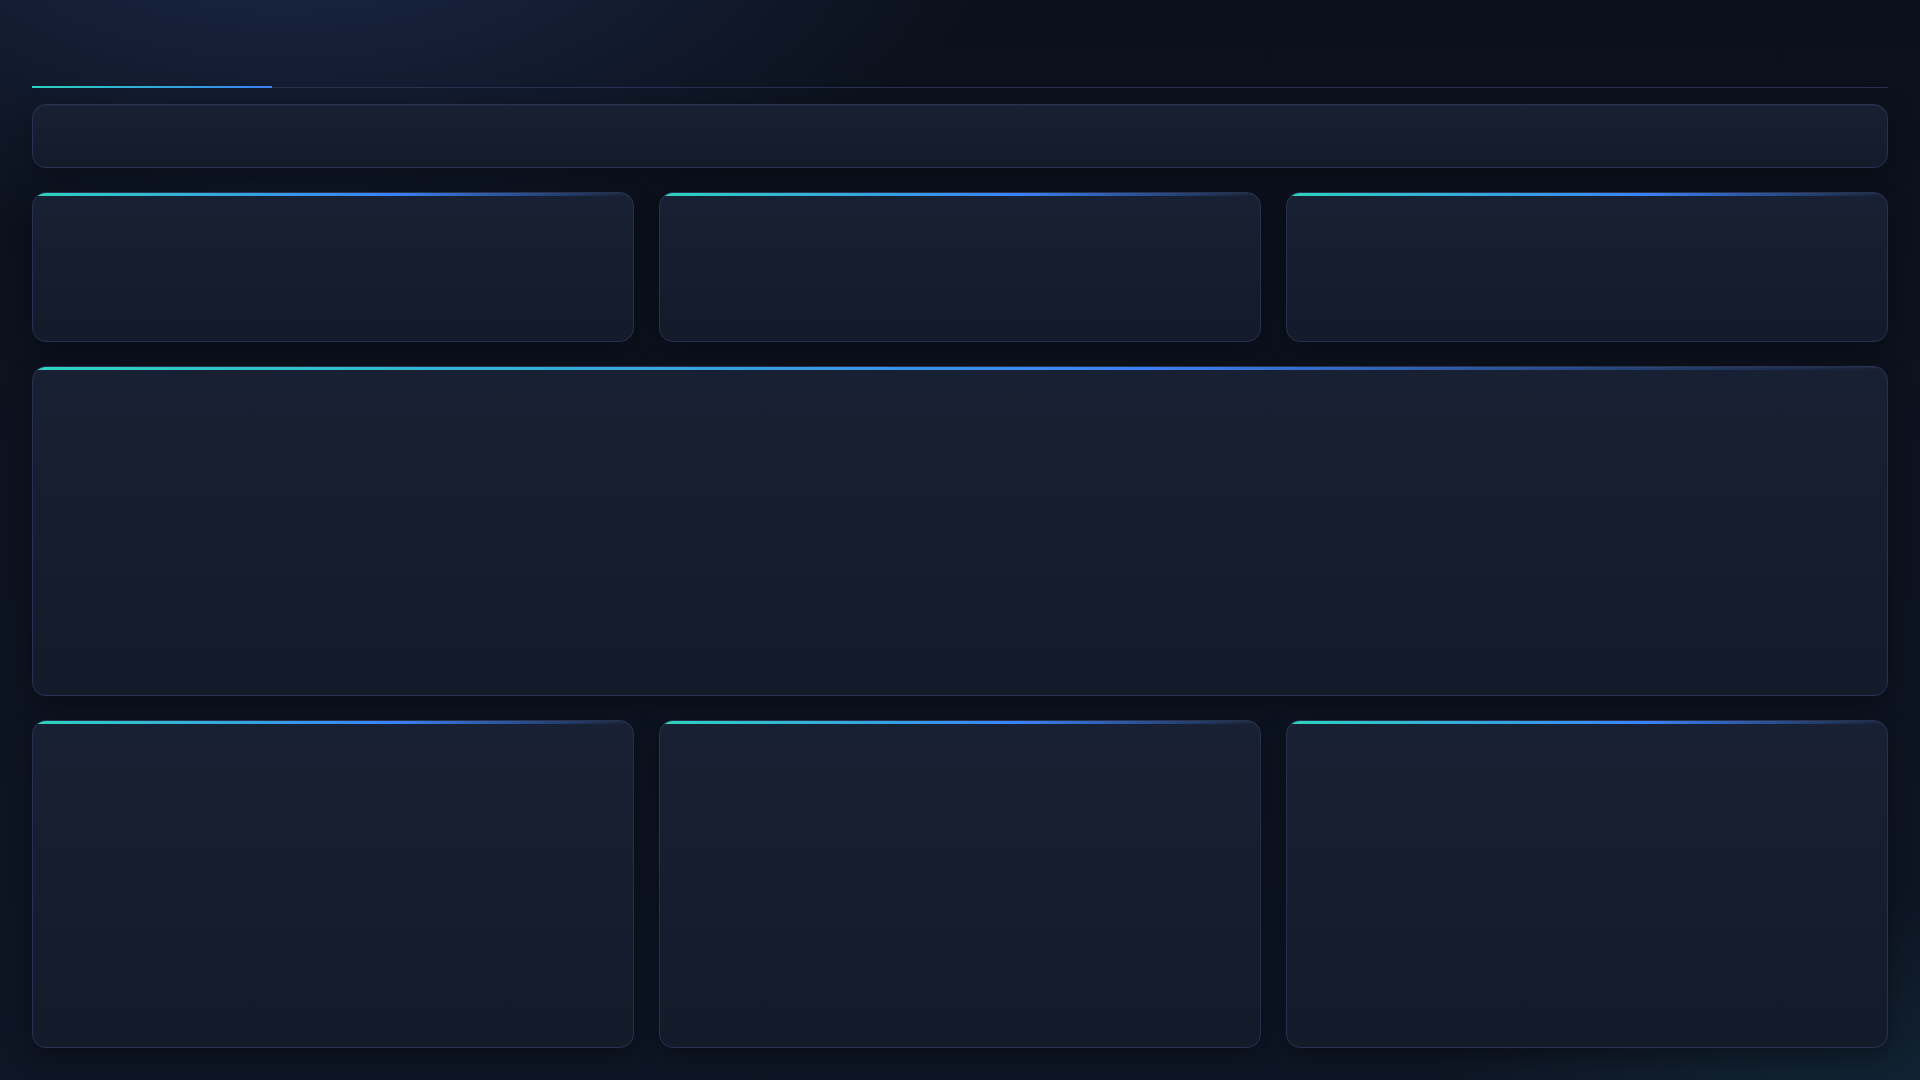

The page's visual inventory and layout, read from the dashboard file:
{"tool":"powerbi","page":{"name":"Página 1","canvas":[1920,1080],"ordinal":0},"visuals":[{"type":"cardVisual","fields":{"Data":["Medidas.Faturamento Total"]},"box":[52.5,200,562.5,138.8],"z":0},{"type":"cardVisual","fields":{"Data":["Medidas.Quantidade Vendida"]},"box":[677.6,200.4,555.9,138.4],"z":1000},{"type":"cardVisual","fields":{"Data":["Medidas.Ticket Médio"]},"box":[1293.2,200.4,575,138.4],"z":2000},{"type":"lineChart","fields":{"Category":["Vendas.Data.Variation.Hierarquia de datas.Mês"],"Y":["Medidas.Faturamento Total"]},"box":[58.8,370.6,1808.8,302.9],"z":3000},{"type":"barChart","fields":{"Category":["Vendedores.Nome"],"Y":["Sum(Vendas.Faturamento)"]},"box":[52.9,726.5,561.8,300],"z":4000},{"type":"barChart","fields":{"Category":["Produtos.Categoria"],"Y":["Sum(Vendas.Faturamento)"]},"box":[676.5,726.5,555.9,300],"z":5000},{"type":"barChart","fields":{"Category":["Vendedores.Regiao"],"Y":["Sum(Vendas.Faturamento)"]},"box":[1295.6,725.3,573.5,300],"z":6000},{"type":"slicer","fields":{"Values":["Vendas.Data.Variation.Hierarquia de datas.Mês"]},"box":[52.5,97.8,365,57.3],"z":7000},{"type":"slicer","fields":{"Values":["Vendedores.Regiao"]},"box":[417.5,97.8,365,57.3],"z":7001},{"type":"slicer","fields":{"Values":["Vendedores.Nome"]},"box":[782.6,97.8,365,57.3],"z":7002},{"type":"slicer","fields":{"Values":["Produtos.Categoria"]},"box":[1147.6,97.8,365,57.3],"z":7003},{"type":"slicer","fields":{"Values":["Produtos.Produto"]},"box":[1512.7,97.8,365,57.3],"z":7004},{"type":"textbox","box":[28.6,19.1,1264.5,64.4],"z":7005}]}

Visuals, with their boxes in screenshot pixels (x1, y1, x2, y2), scaled from the page's 1920x1080 canvas onto the 1920x1080 screenshot:
cardVisual - Medidas.Faturamento Total: 52:200:615:339
cardVisual - Medidas.Quantidade Vendida: 678:200:1234:339
cardVisual - Medidas.Ticket Médio: 1293:200:1868:339
lineChart - Vendas.Data.Variation.Hierarquia de datas.Mês x Medidas.Faturamento Total: 59:371:1868:674
barChart - Vendedores.Nome x Sum(Vendas.Faturamento): 53:726:615:1026
barChart - Produtos.Categoria x Sum(Vendas.Faturamento): 676:726:1232:1026
barChart - Vendedores.Regiao x Sum(Vendas.Faturamento): 1296:725:1869:1025
slicer - Vendas.Data.Variation.Hierarquia de datas.Mês: 52:98:418:155
slicer - Vendedores.Regiao: 418:98:782:155
slicer - Vendedores.Nome: 783:98:1148:155
slicer - Produtos.Categoria: 1148:98:1513:155
slicer - Produtos.Produto: 1513:98:1878:155
textbox: 29:19:1293:84
